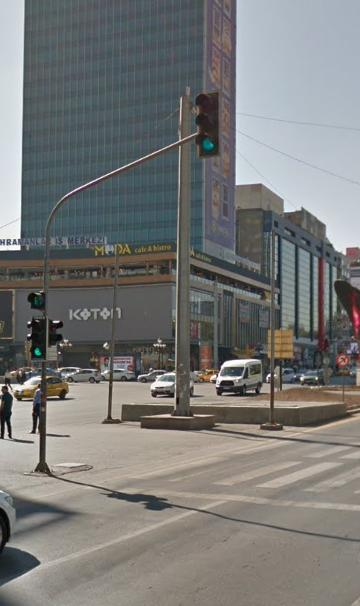greenlight: (197, 93, 221, 159), (27, 317, 47, 363)
